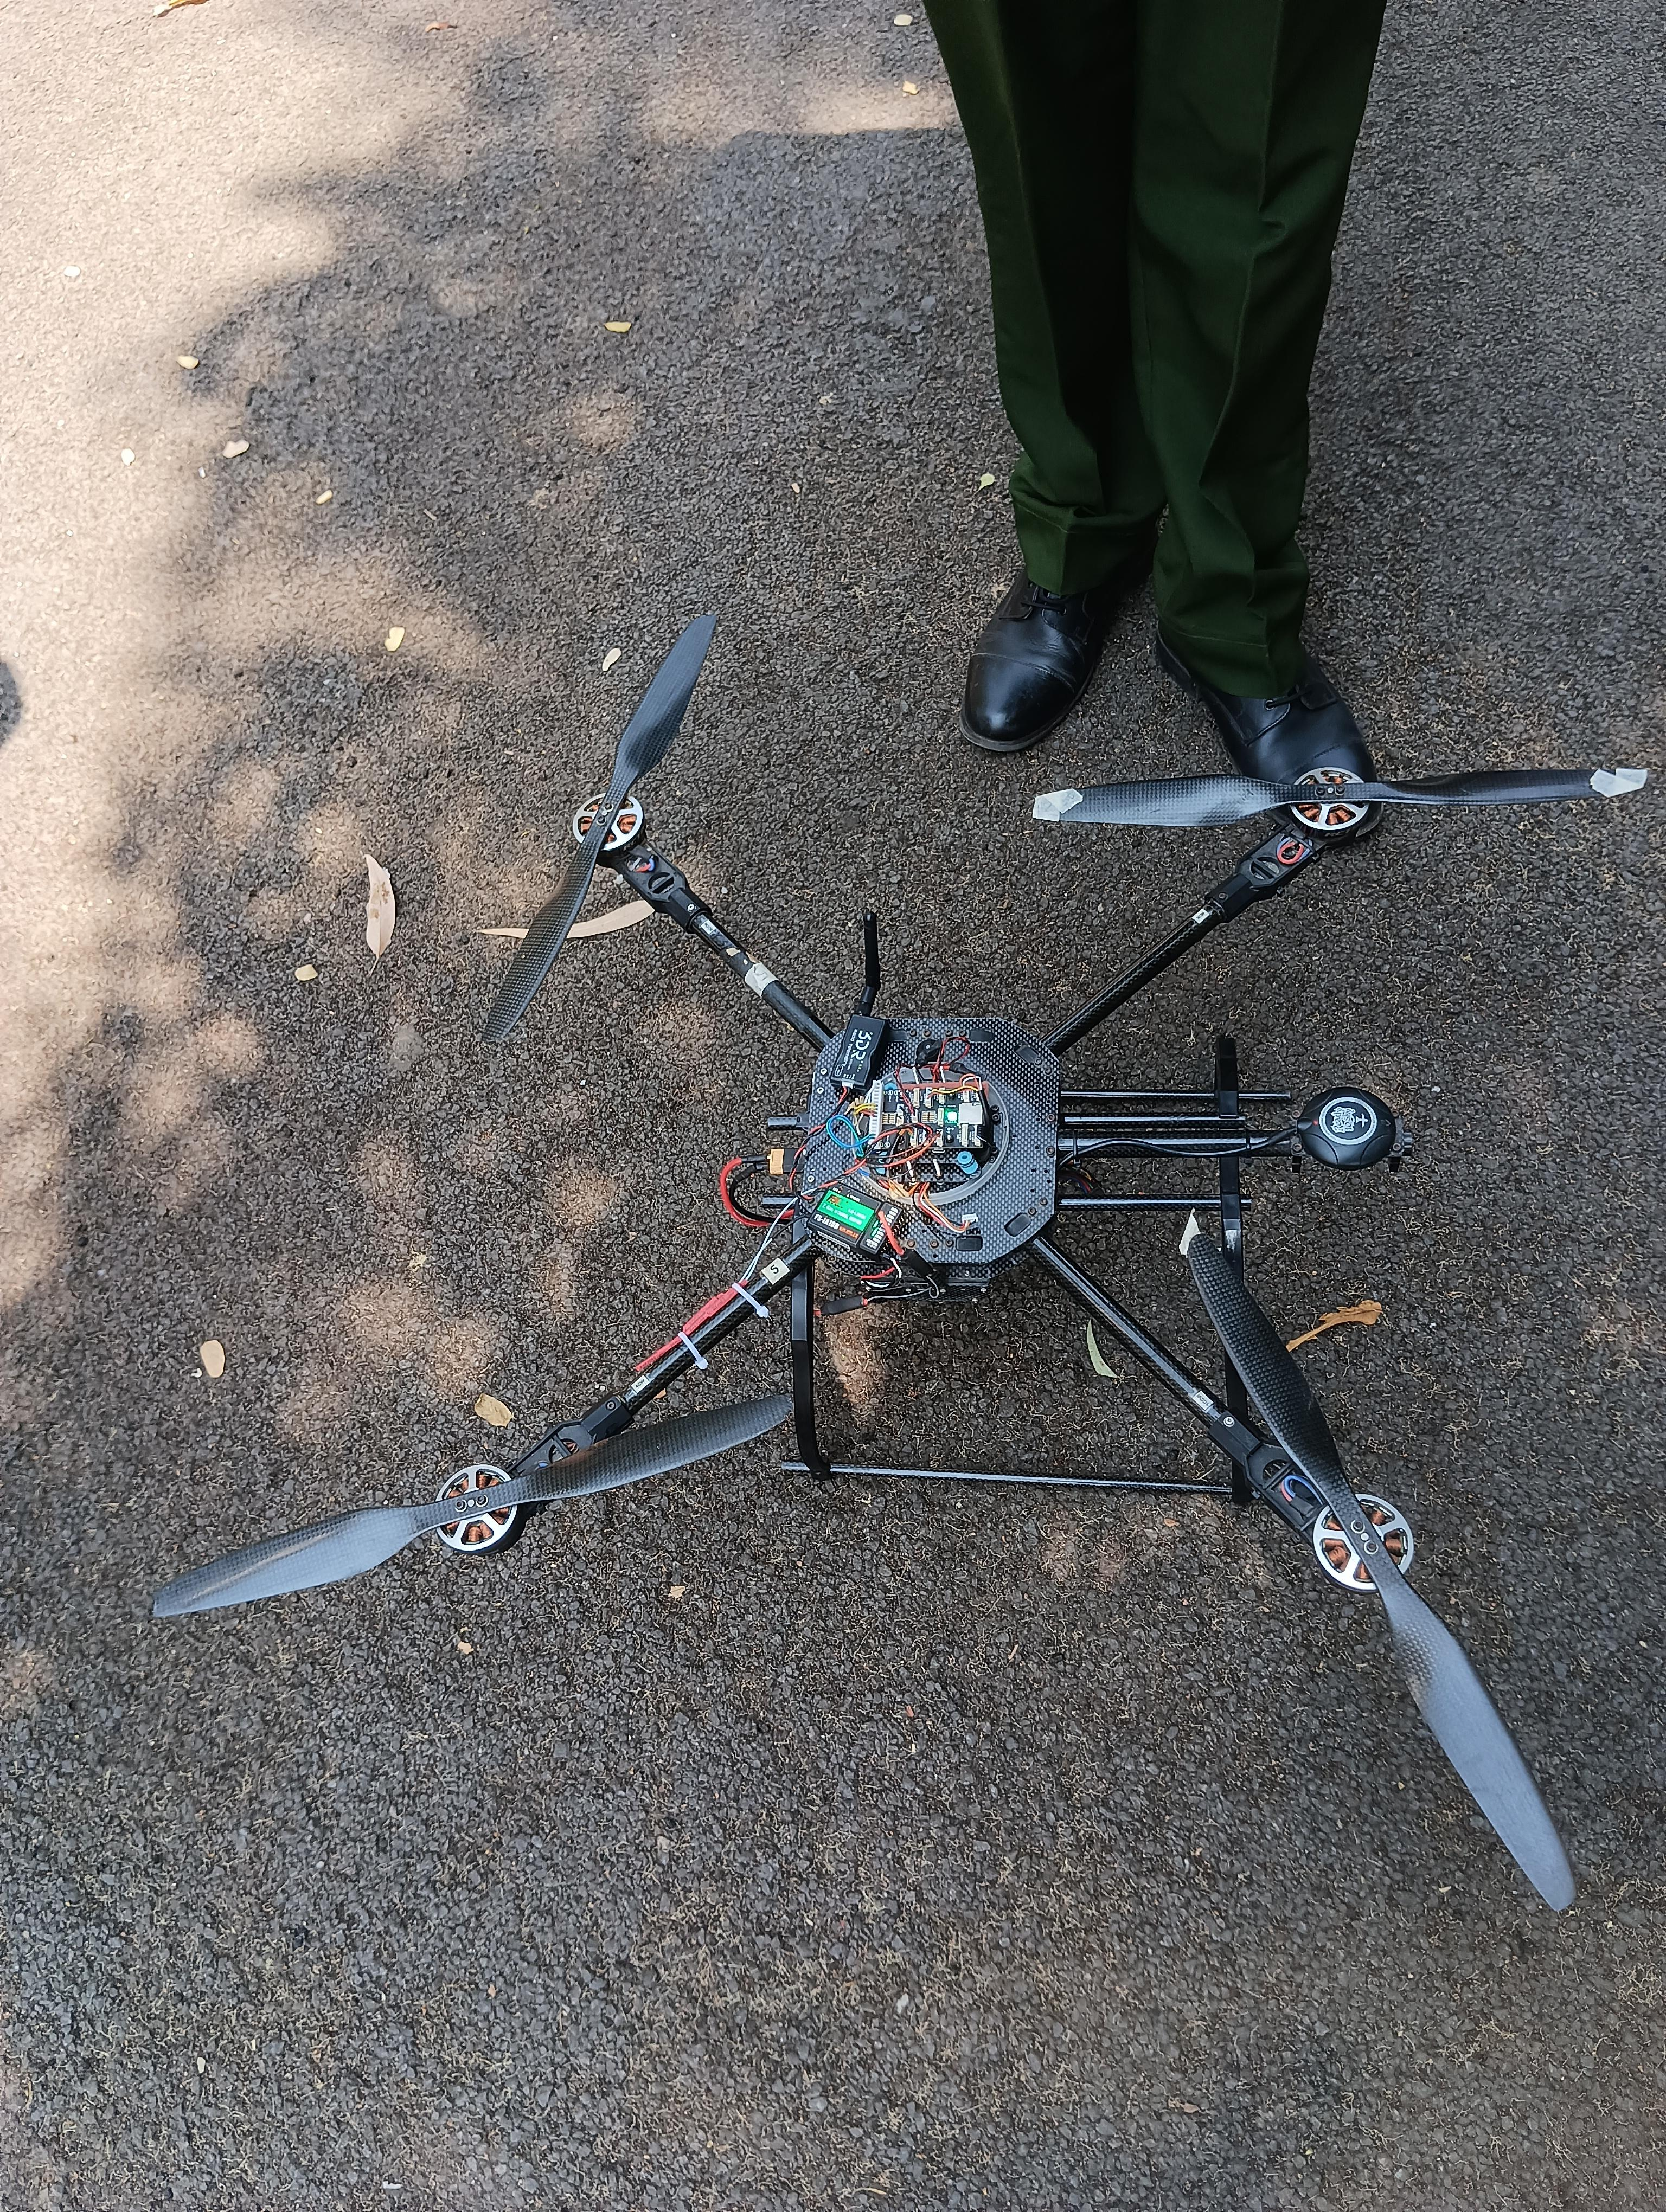drone: (82, 609, 1666, 1976)
